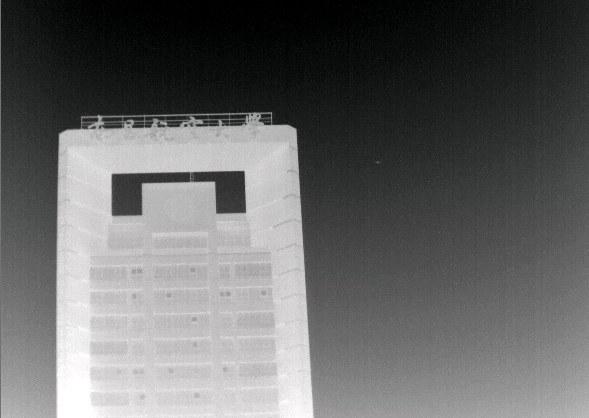dim target: (374, 160, 381, 164)
